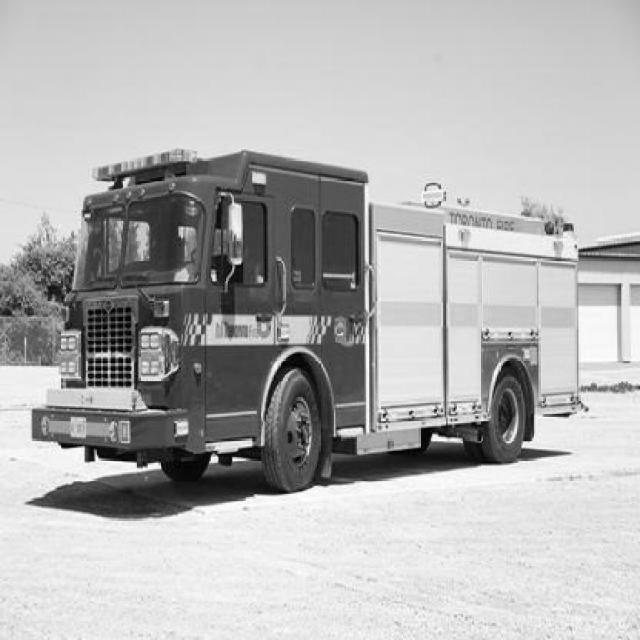Fire Truck: (30, 147, 594, 494)
